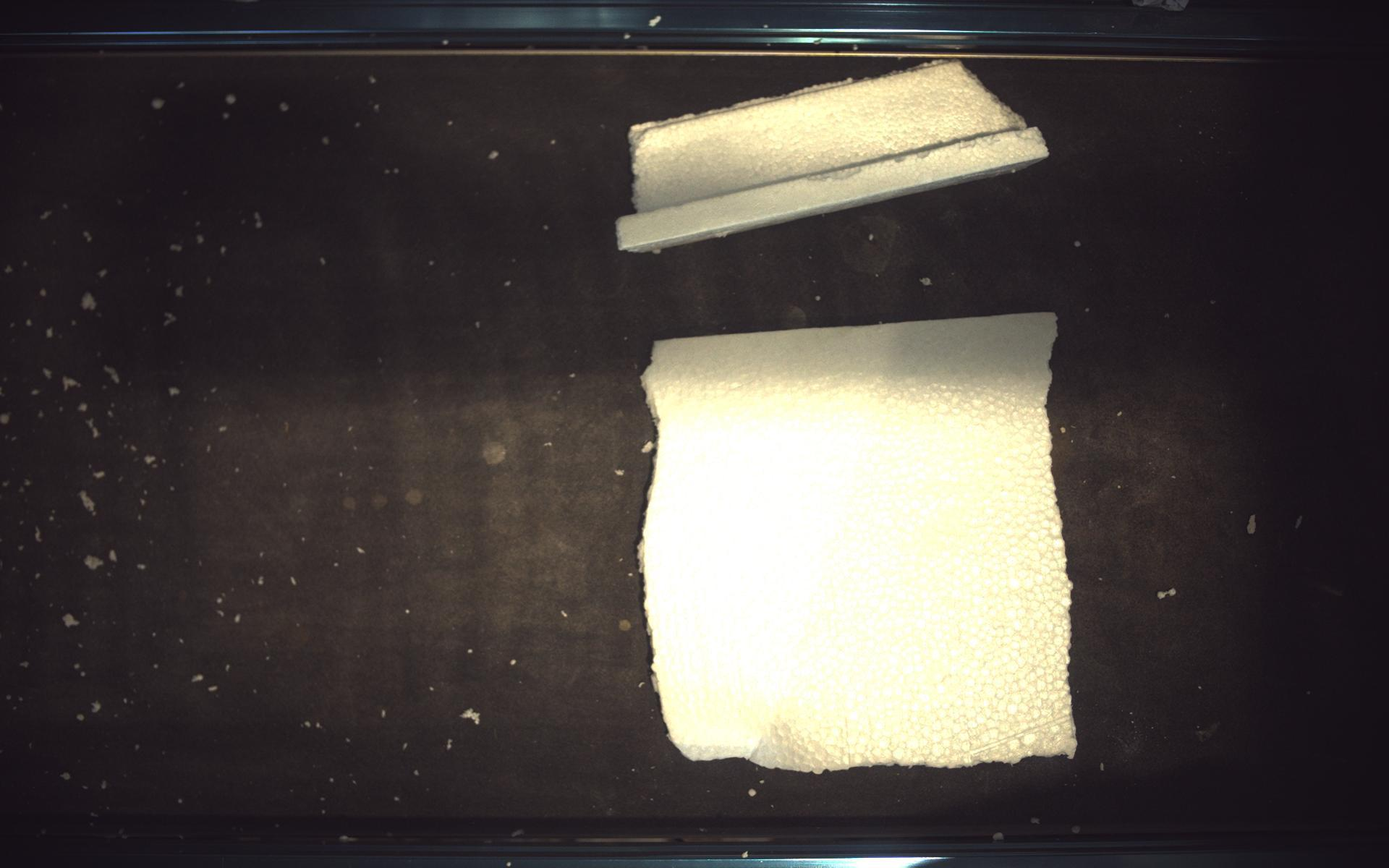foam: (641, 313, 1078, 774), (618, 59, 1050, 250)
